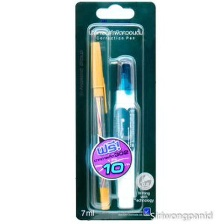book: (71, 0, 159, 222)
correction_fluid: (110, 56, 140, 210)
